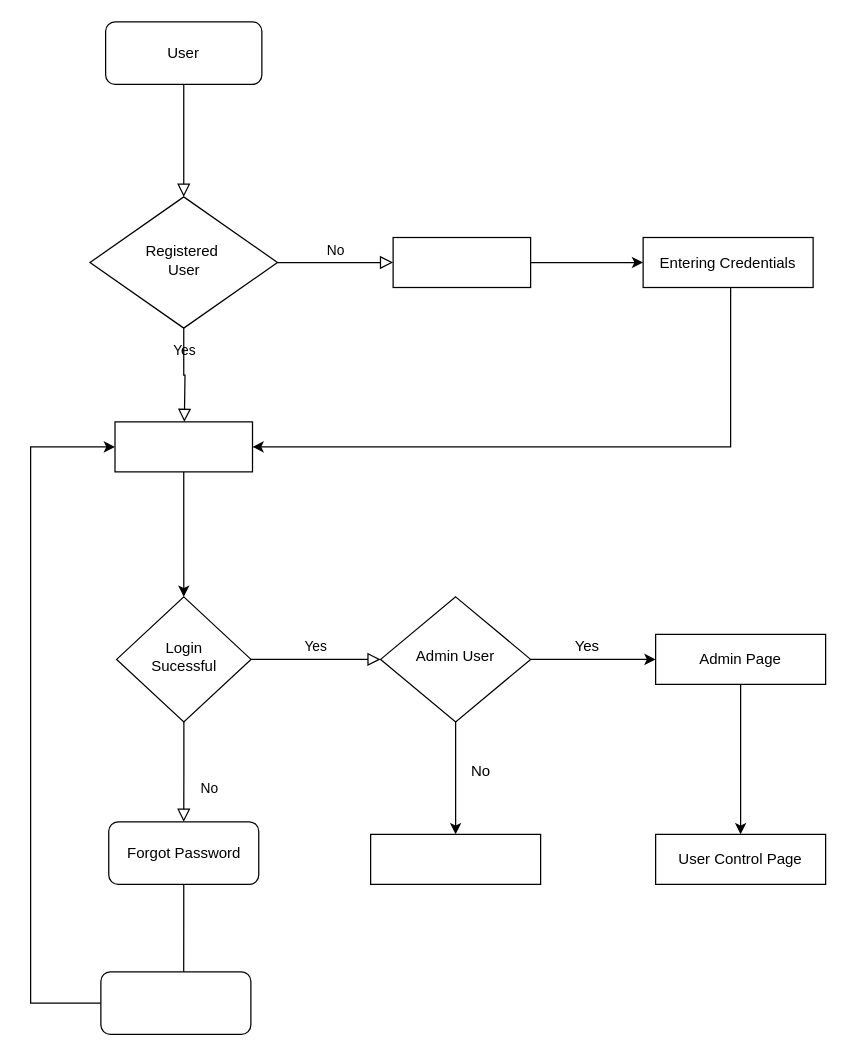
Some shapes in this 848 by 1056 pixel diagram are drawn without their labels. Here are the shapes that lost their labels. From the top down, the centre of each, then its label:
At point 461,262: "Register Page".
At point 183,446: "Login Page".
At point 455,858: "User Page".
At point 175,1002: "Email Verification code".
